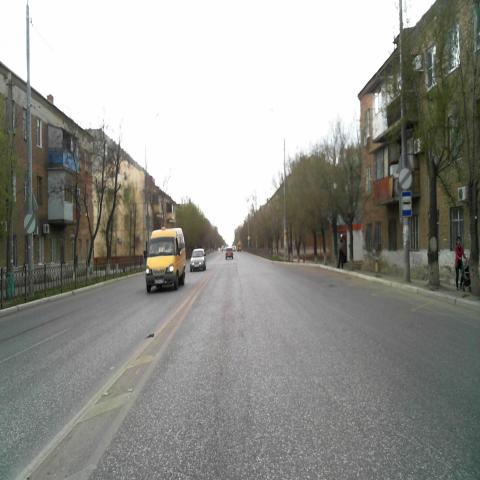3_31: (398, 164, 412, 191), (24, 213, 36, 234)
